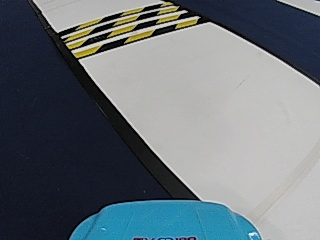bump: (69, 5, 180, 57)
